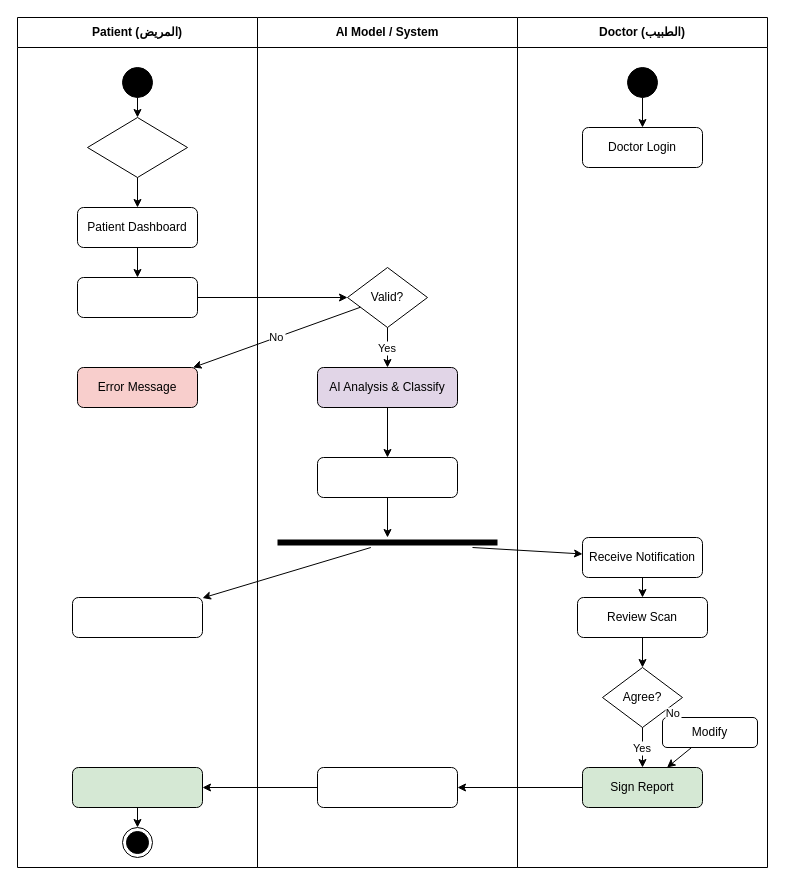
Some shapes in this 785 by 885 pixel diagram are drawn without their labels. Here are the shapes that lost their labels. From the top down, the box of each, then its label:
(86, 116, 188, 178): Login / Sign up
(76, 276, 198, 318): Upload brain scan
(316, 456, 458, 498): Generate Result
(72, 596, 202, 638): View preliminary result
(72, 766, 202, 808): View final report
(316, 766, 458, 808): Store report
